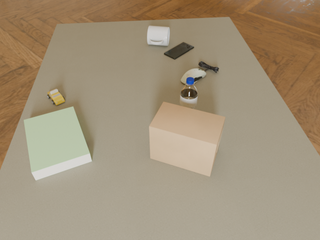book: (24, 107, 92, 180)
bottle: (180, 77, 198, 109)
box: (149, 102, 225, 176)
cup: (147, 26, 170, 46)
mouse: (181, 69, 206, 84)
phone: (164, 42, 194, 59)
toy_car: (47, 89, 65, 105)
